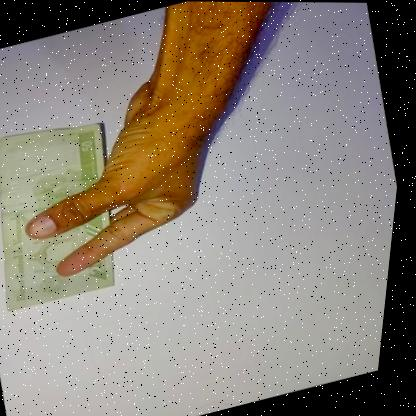fifty-back-vef: (0, 111, 146, 313)
